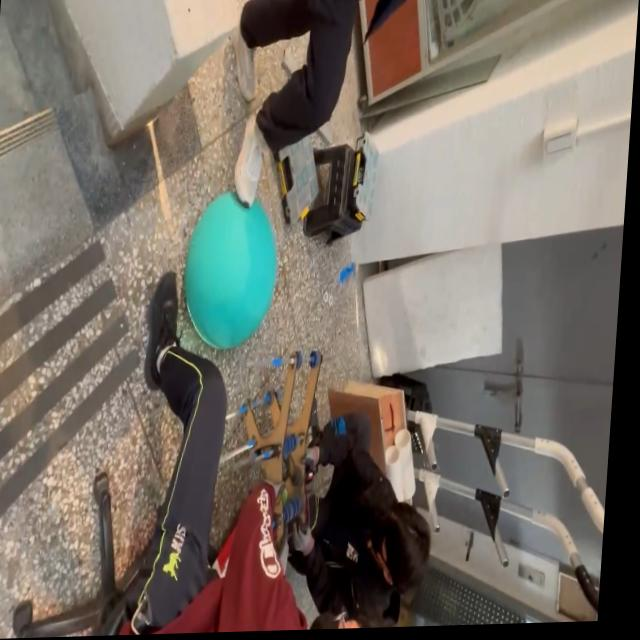ALGAE: (178, 186, 283, 353)
